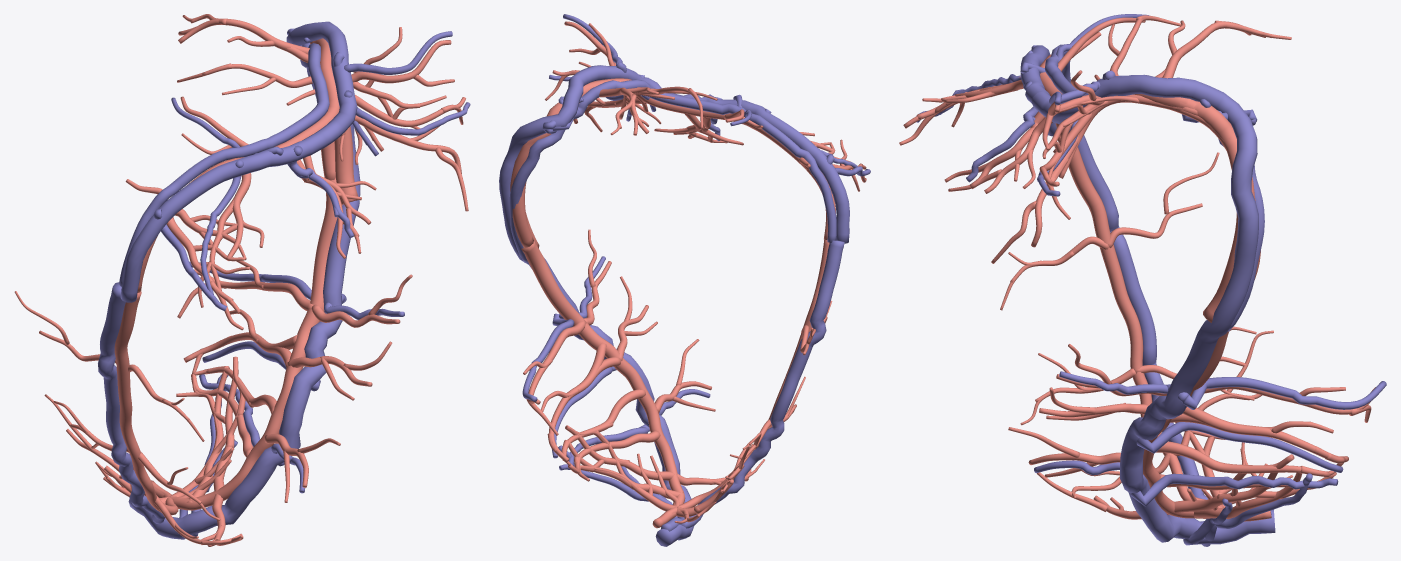
File: vessels_23.glb
3 renders of one model, left to right at view 1: azimuth 30°, elevation 25°; view 2: azimuth 150°, elevation 25°; view 3: azimuth 270°, elevation 25°, orthographic. The views are drawn at different scales.
Visible parts, largest first — view 1: Renderer Node; view 2: Renderer Node; view 3: Renderer Node.
Part boxes in pixels (left/top/right/bottom): Renderer Node: left=14, top=14, right=470, bottom=546; Renderer Node: left=499, top=14, right=870, bottom=546; Renderer Node: left=899, top=14, right=1386, bottom=546.
Size of the model in its own units: 93.88 by 120 by 94.21.
